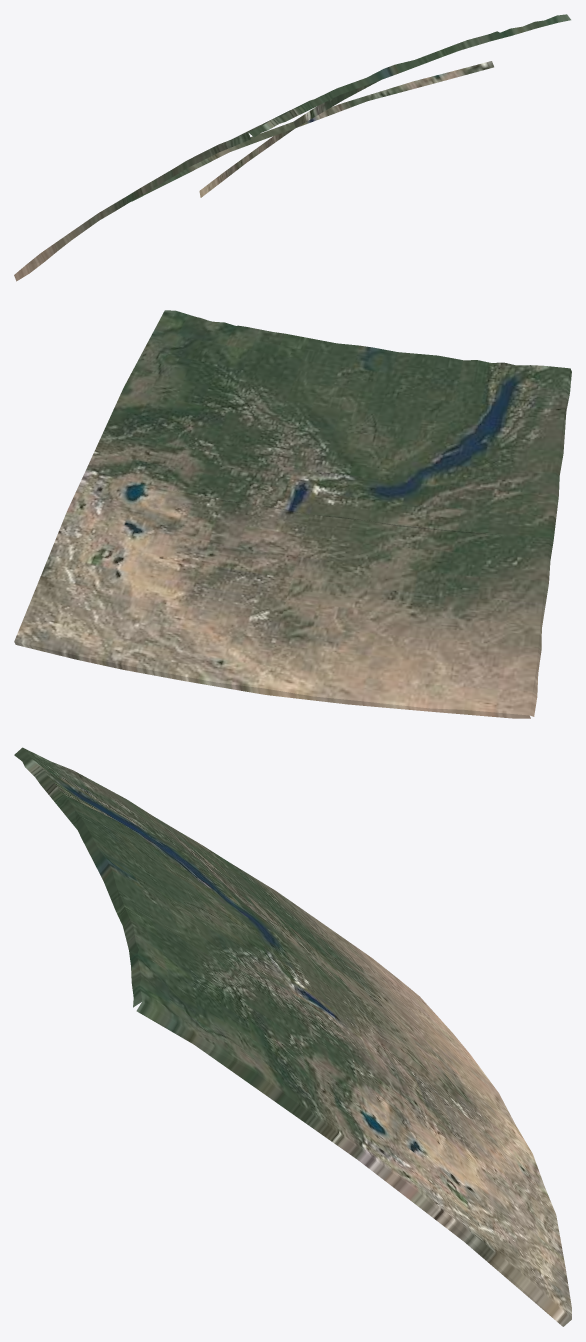
3 renders of one model, top to bottom at view 1: azimuth 30°, elevation 25°; view 2: azimuth 150°, elevation 25°; view 3: azimuth 270°, elevation 25°, orthographic. The views are drawn at different scales.
Bounding box in the file's own units: 1748033 × 827508 × 1264409.
1 material, 1 textured.
